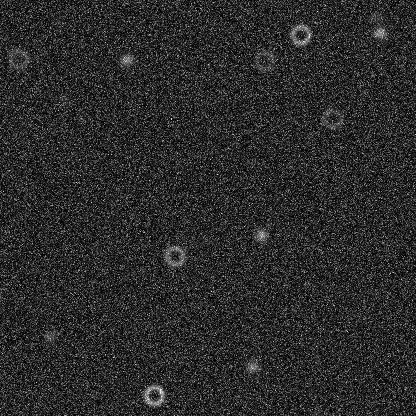Ring: (141, 383, 165, 407), (162, 244, 186, 268), (288, 22, 312, 46), (320, 106, 344, 130), (6, 46, 30, 70), (252, 48, 276, 72)
Spot: (253, 226, 269, 242), (88, 241, 104, 257), (50, 13, 66, 29), (55, 90, 71, 106), (41, 328, 57, 344), (371, 24, 387, 40), (118, 51, 134, 67), (244, 358, 260, 374), (368, 9, 384, 25)
